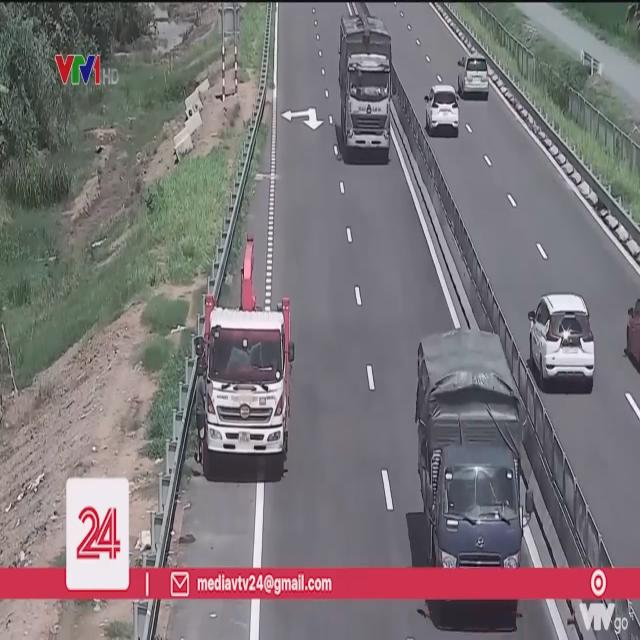car: (529, 292, 599, 394), (424, 85, 460, 134), (456, 56, 489, 101)
truck: (414, 329, 530, 564), (205, 291, 293, 471), (338, 28, 395, 166)
